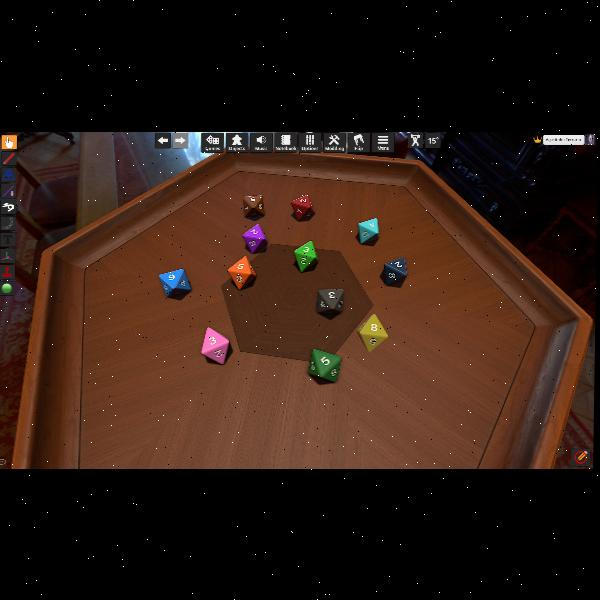d8: (358, 313, 388, 351), (201, 326, 229, 364), (307, 350, 340, 382), (159, 268, 191, 298), (229, 255, 257, 288), (243, 223, 268, 253), (293, 240, 317, 270), (384, 256, 408, 284), (317, 288, 342, 314), (292, 194, 314, 222), (357, 217, 378, 243), (242, 195, 264, 219)
